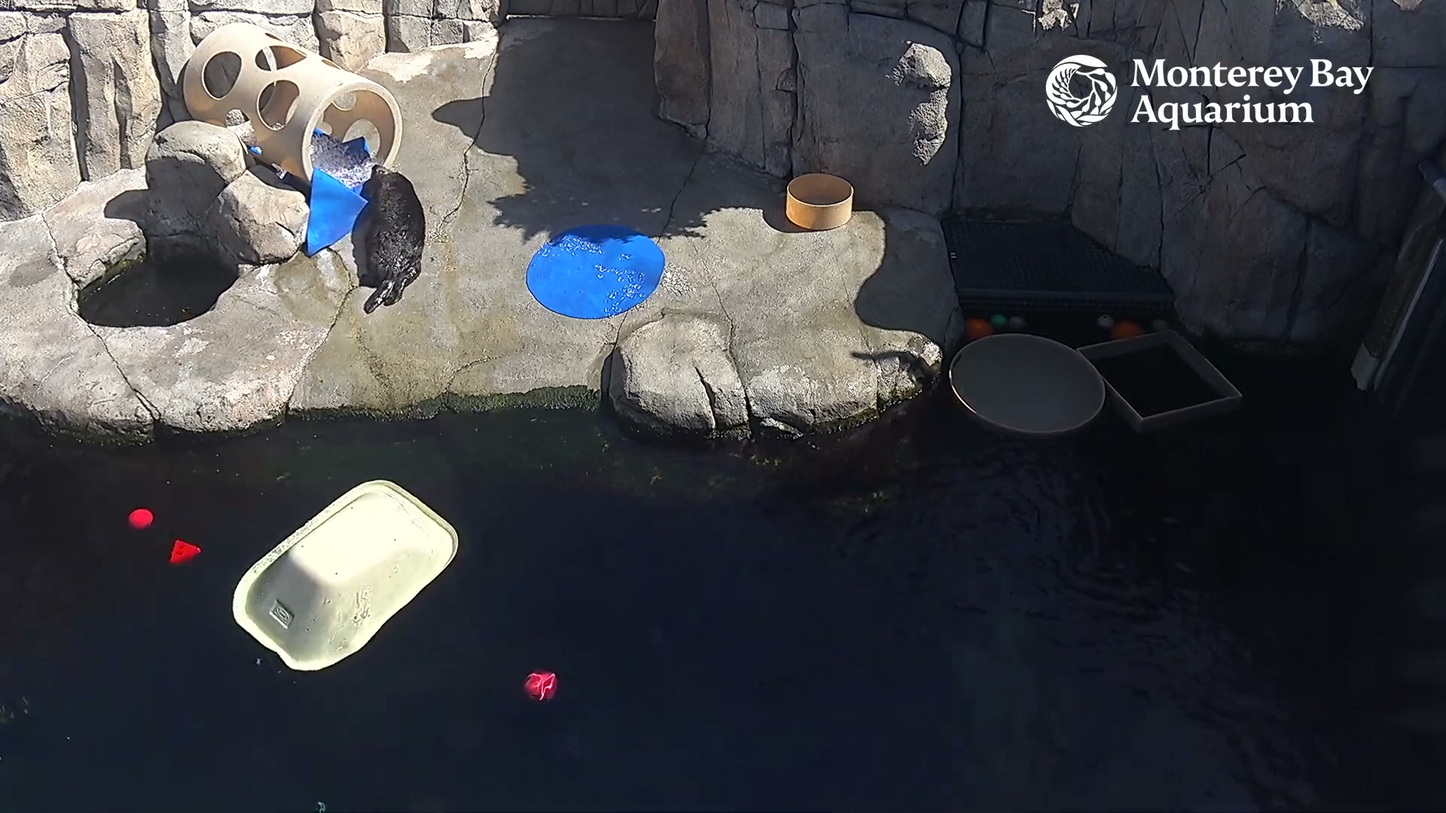Southern Sea Otter: (363, 152, 435, 314)
